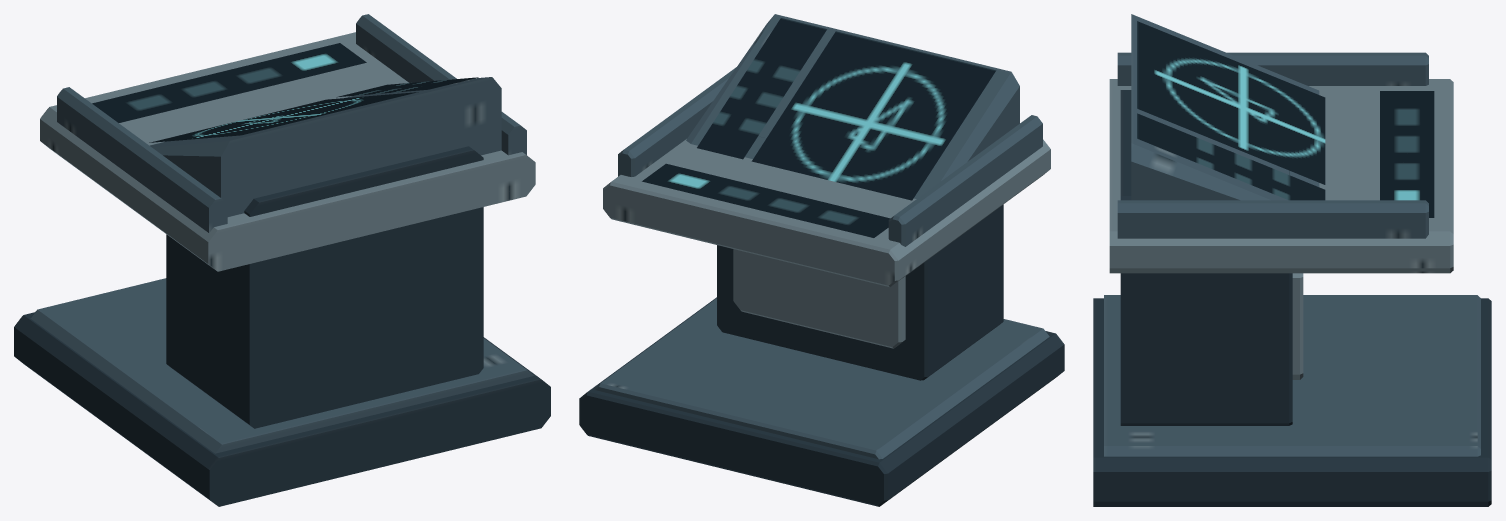
Rendered from ship_console.obj.
The picture shows the model from 3 angles, left to right: view 1: azimuth 30°, elevation 25°; view 2: azimuth 150°, elevation 25°; view 3: azimuth 270°, elevation 25°; orthographic projection. The views are drawn at different scales.
Visible parts, largest first — view 1: rear_pedestal, console_deck, plinth, slanted_panel_support, plinth_trim, raised_guard_1_2, key_strip, raised_guard_14, heading_display, auxiliary_controls; view 2: plinth_trim, heading_display, console_deck, plinth, rear_pedestal, front_service_cover, slanted_panel_support, auxiliary_controls, raised_guard_1_2, key_strip, raised_guard_14; view 3: plinth_trim, rear_pedestal, console_deck, plinth, heading_display, raised_guard_14, slanted_panel_support, key_strip, raised_guard_1_2, auxiliary_controls, front_service_cover.
Part boxes in pixels (x1,y1,x2,y2): rear_pedestal: (166, 146, 483, 428); console_deck: (40, 32, 535, 271); plinth: (14, 312, 550, 506); slanted_panel_support: (150, 77, 501, 216); plinth_trim: (30, 278, 534, 453); raised_guard_1_2: (57, 87, 227, 232); key_strip: (92, 43, 366, 122); raised_guard_14: (356, 14, 526, 155); heading_display: (149, 92, 418, 142); auxiliary_controls: (336, 77, 478, 97); plinth_trim: (594, 298, 1049, 459); heading_display: (751, 31, 996, 200); console_deck: (603, 139, 1050, 286); plinth: (579, 297, 1064, 506); rear_pedestal: (717, 204, 1003, 380); front_service_cover: (733, 249, 905, 348); slanted_panel_support: (686, 14, 1019, 198); auxiliary_controls: (697, 18, 827, 159); raised_guard_1_2: (888, 115, 1042, 246); key_strip: (642, 163, 890, 237); raised_guard_14: (618, 67, 736, 176); plinth_trim: (1104, 295, 1480, 456); rear_pedestal: (1120, 90, 1292, 425); console_deck: (1109, 79, 1453, 273); plinth: (1093, 298, 1491, 506); heading_display: (1137, 21, 1325, 184); raised_guard_14: (1117, 200, 1428, 238); slanted_panel_support: (1131, 14, 1319, 200); key_strip: (1380, 91, 1434, 217); raised_guard_1_2: (1117, 52, 1428, 85); auxiliary_controls: (1137, 113, 1325, 200); front_service_cover: (1292, 273, 1303, 379).
Size of the model in its own units: 0.9125 by 0.8813 by 0.9125.
